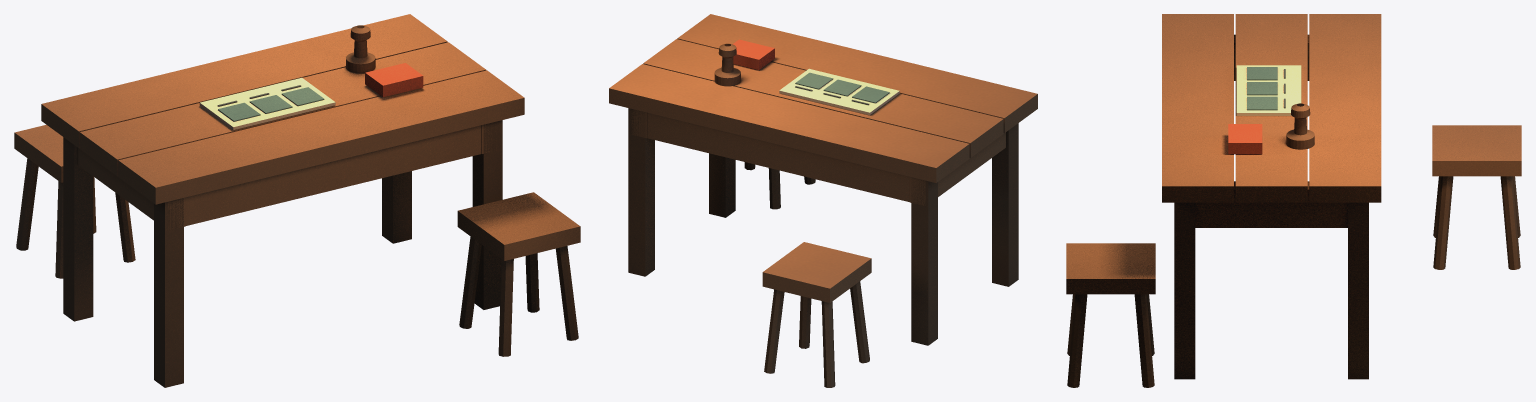
The model's file is desk.glb.
The picture shows the model from 3 angles, left to right: view 1: azimuth 30°, elevation 25°; view 2: azimuth 150°, elevation 25°; view 3: azimuth 270°, elevation 25°; orthographic projection. The views are drawn at different scales.
Visible parts, largest first — view 1: desk-baked; view 2: desk-baked; view 3: desk-baked.
Part boxes in pixels (x1,y1,x2,y2): desk-baked: (14,14,580,387); desk-baked: (609,14,1037,387); desk-baked: (1066,14,1521,387).
Bounding box in the file's own units: 1.58 × 1 × 1.73.
1 material, 1 textured.
